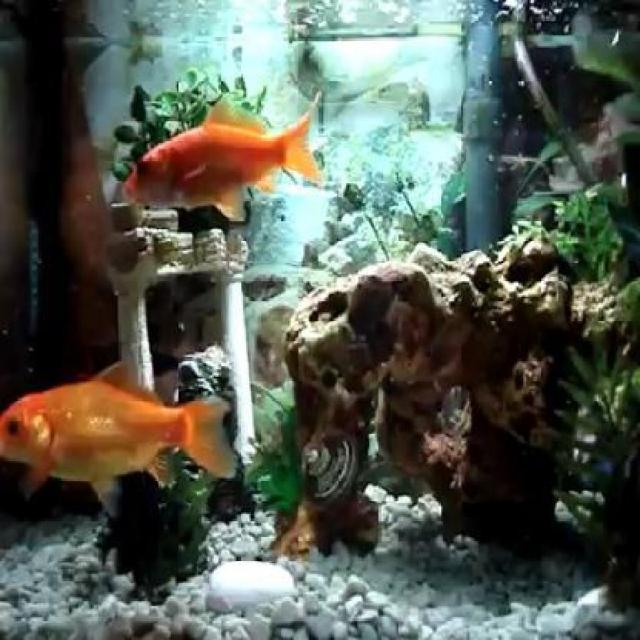GoldFish: (1, 354, 232, 504), (124, 90, 324, 221)
